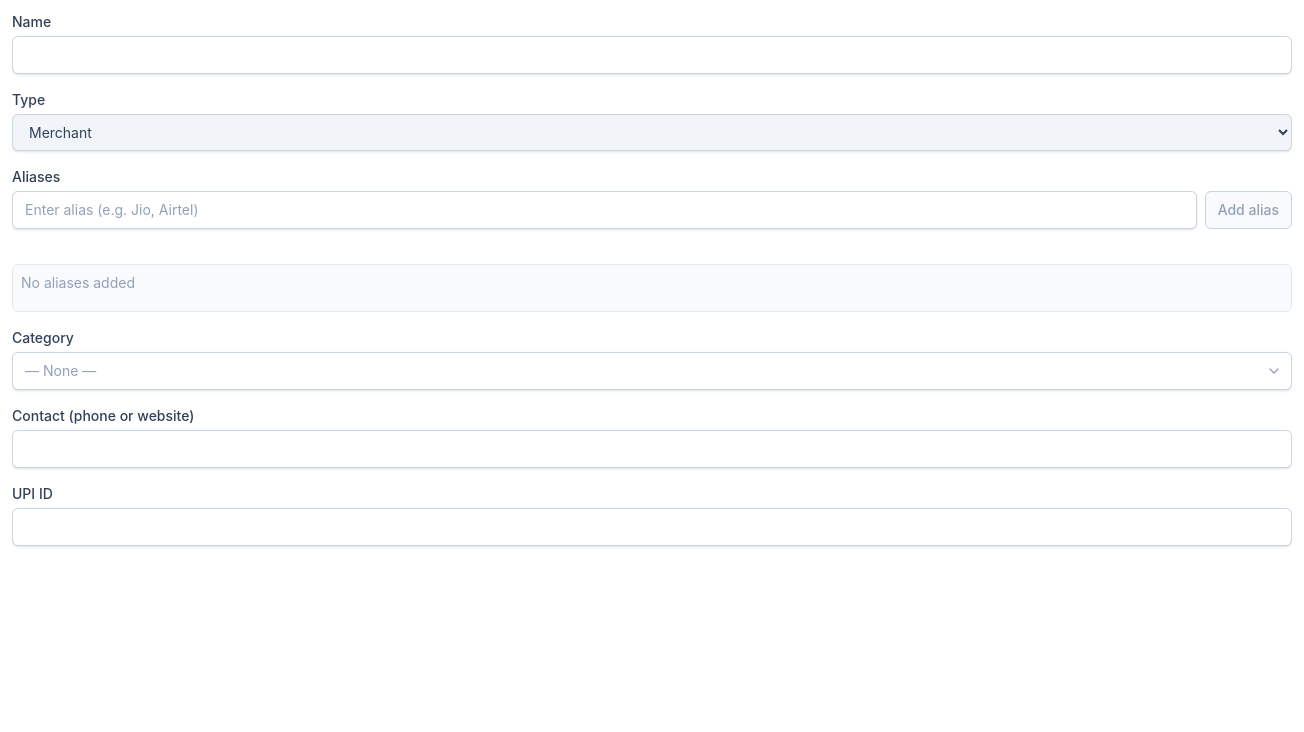
BeneficiaryFormFields › renders merchant fields and hides system-only tags from the category list
This screenshot has width=1304, height=732.
Check: the field labelled "Contact (phone or website)" is shown, box [12, 430, 1292, 468]
Focus the dropdown labelled "Category" at [652, 371], box [12, 352, 1292, 390]
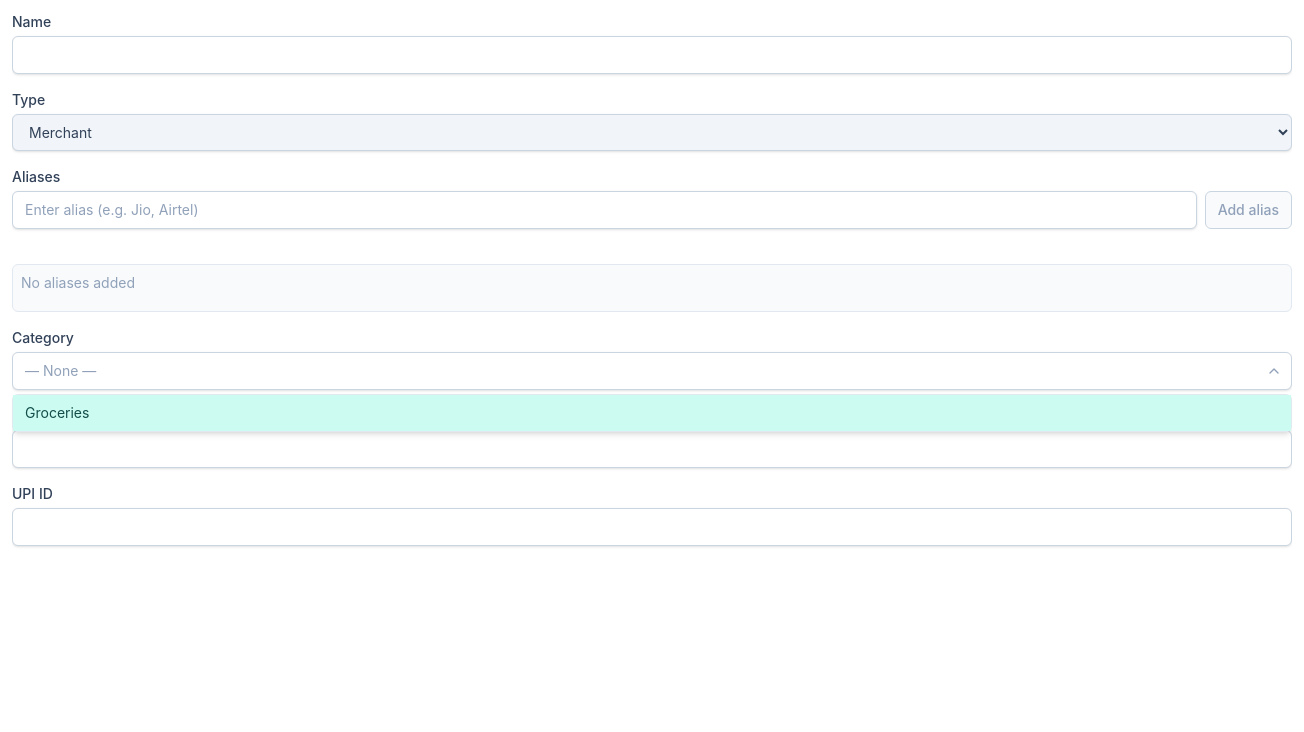
Check: the option "Groceries" is shown, box [13, 395, 1291, 431]
